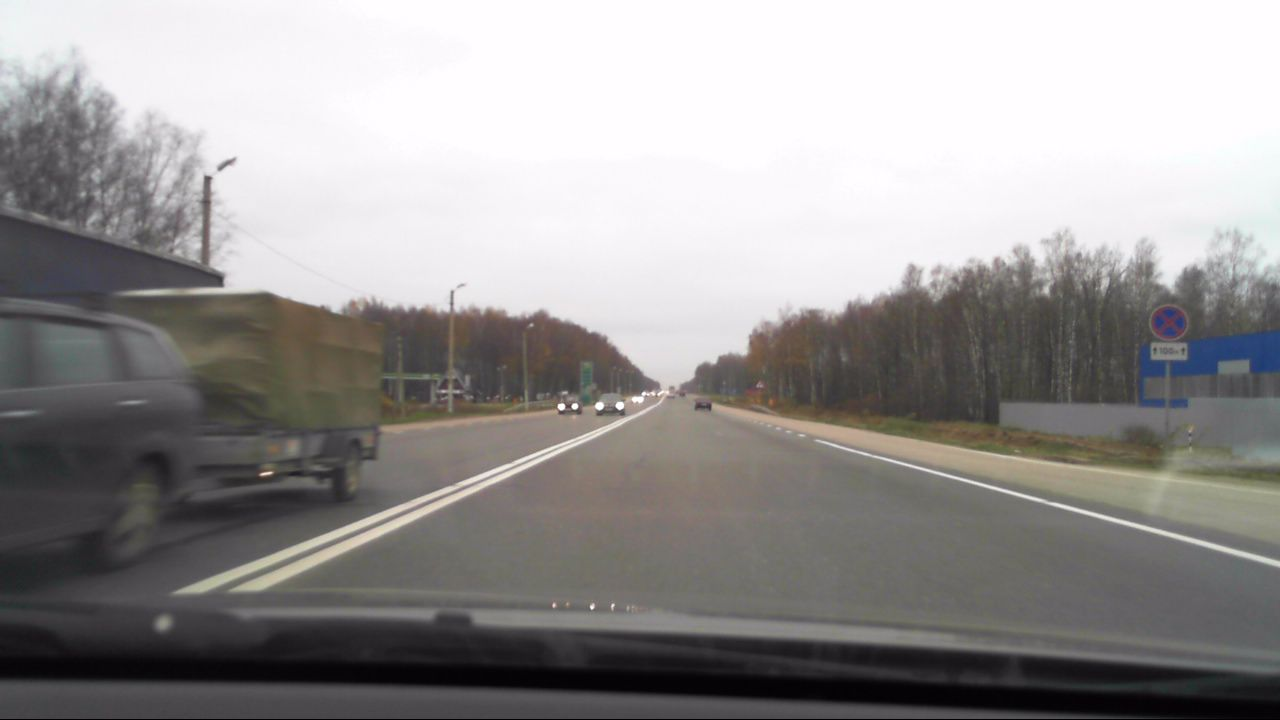No Parking: (1147, 302, 1190, 341)
